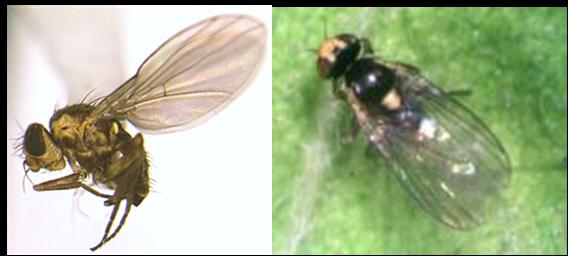Trifoli: (14, 9, 263, 250), (300, 9, 519, 238)
